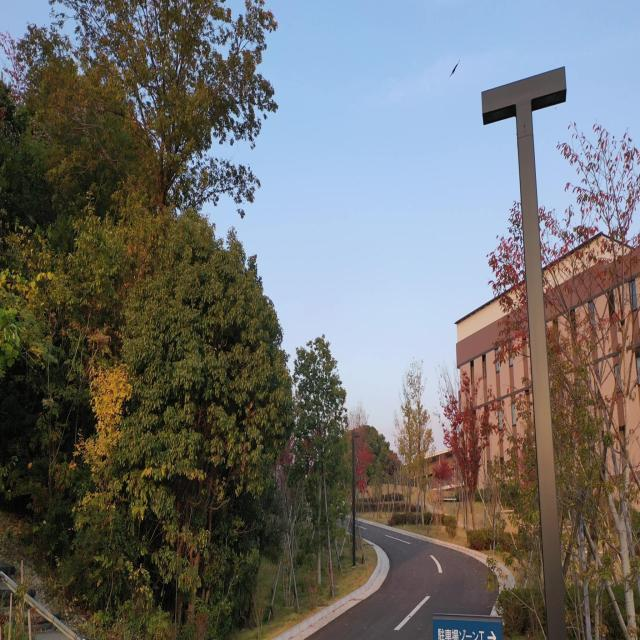Birds: (438, 51, 468, 88)
